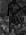iron: (0, 16, 9, 29)
sand: (0, 0, 9, 16)
